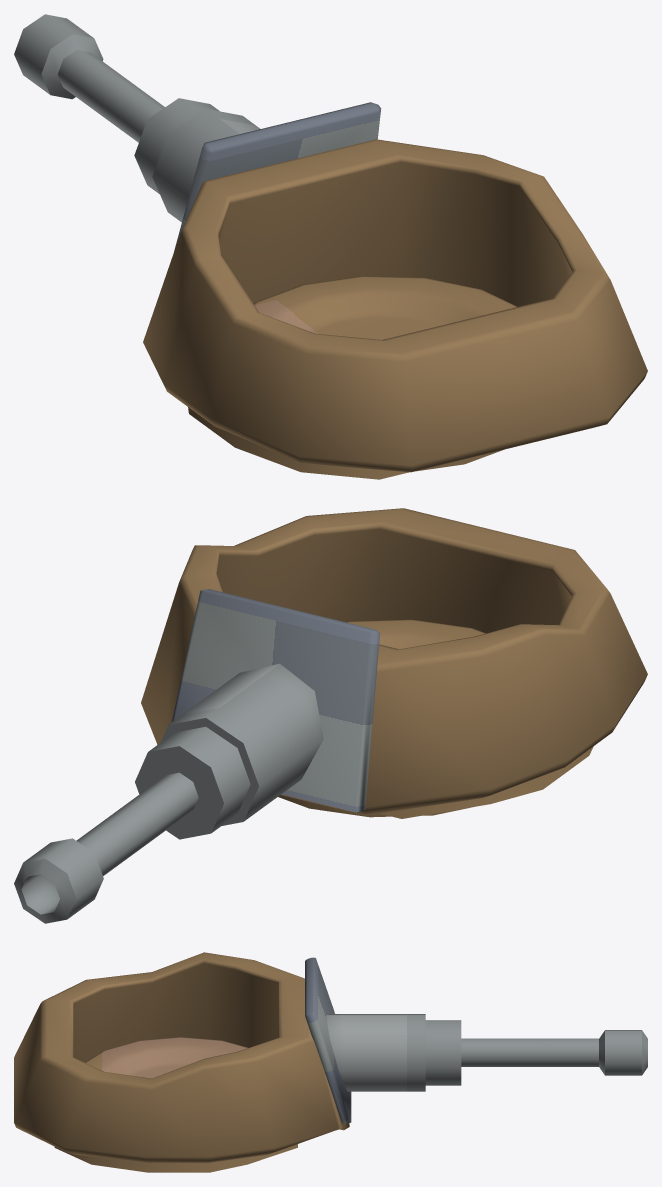
File: ZUBR_TUREL.fbx
The picture shows the model from 3 angles, top to bottom: view 1: azimuth 30°, elevation 25°; view 2: azimuth 150°, elevation 25°; view 3: azimuth 270°, elevation 25°; orthographic projection. The views are drawn at different scales.
Parts seen in each view (by area): view 1: Desert_tank_zubr.011; view 2: Desert_tank_zubr.011; view 3: Desert_tank_zubr.011.
Boxes of the visible parts, box(x1,y1,x2,y2) form: Desert_tank_zubr.011: box(14, 14, 647, 479); Desert_tank_zubr.011: box(14, 508, 647, 923); Desert_tank_zubr.011: box(14, 952, 647, 1172).
Bounding box in the file's own units: 62.98 × 30.99 × 126.
